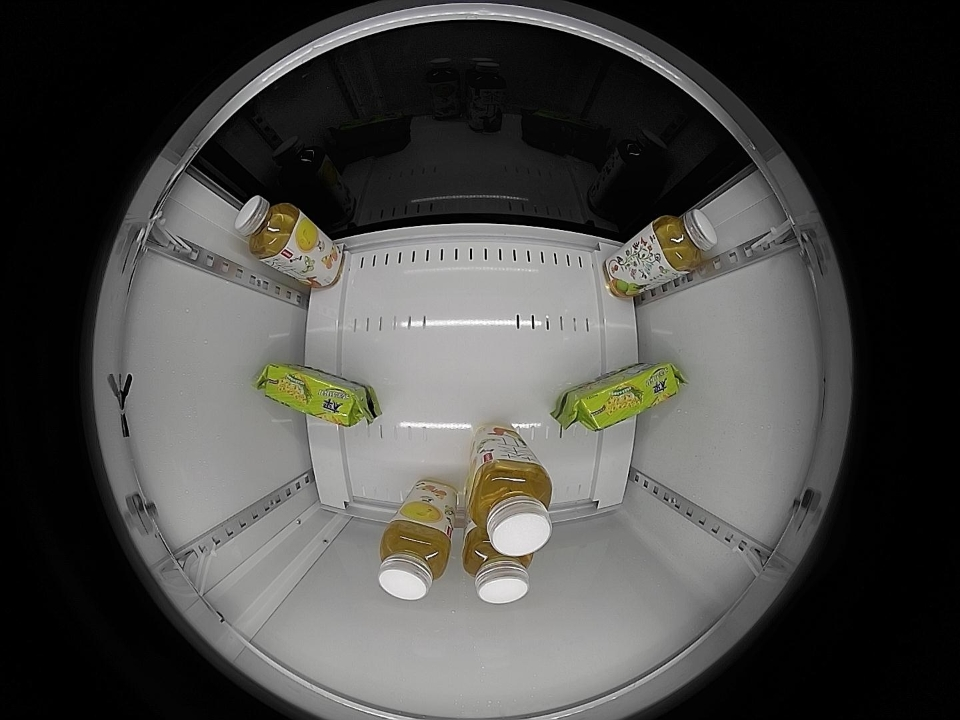chapai2: (466, 460, 554, 557), (378, 517, 452, 600), (462, 531, 534, 604), (234, 195, 303, 264), (653, 208, 718, 274)
taipingshuda: (572, 362, 685, 432), (255, 364, 368, 425)
